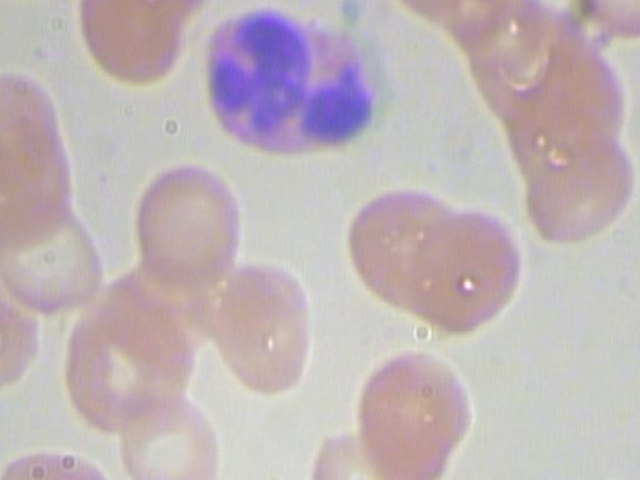RBC: (206, 250, 334, 398), (350, 343, 478, 480), (344, 184, 458, 314), (521, 122, 635, 252), (129, 158, 243, 287), (409, 205, 523, 334), (71, 0, 219, 98), (0, 205, 111, 319), (113, 385, 235, 480), (0, 70, 65, 194), (301, 421, 405, 480), (0, 435, 125, 480), (0, 275, 43, 405), (0, 0, 92, 1)
WBC: (188, 1, 383, 175)
